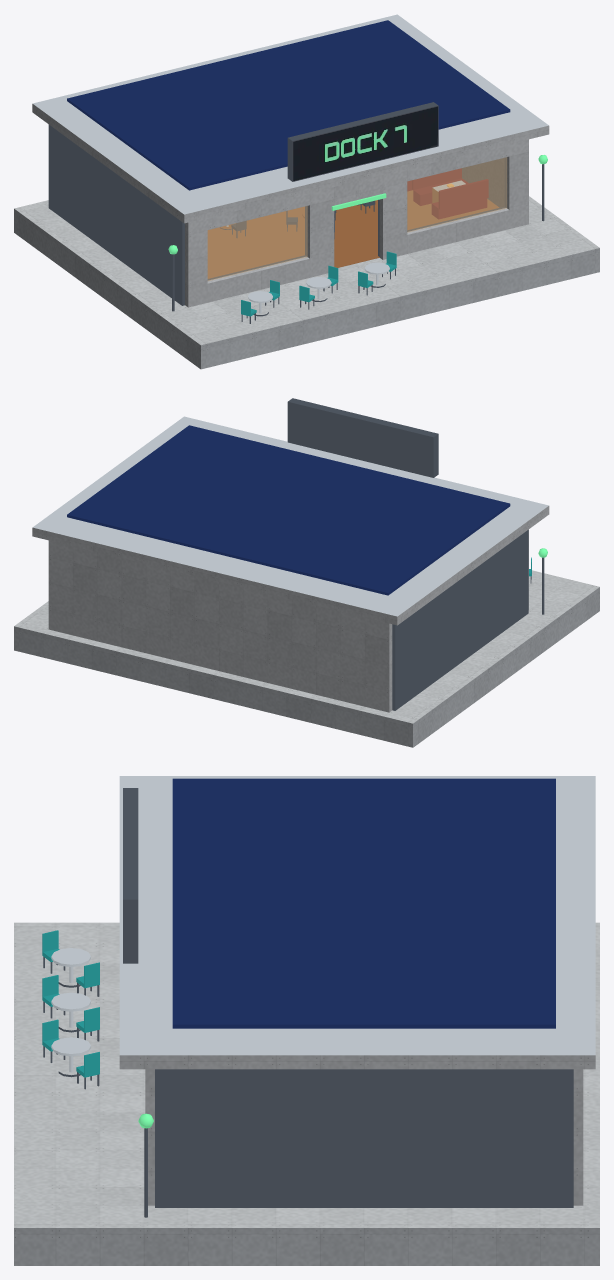
The model's file is dock_seven_tavern.glb.
3 views of the same model, one above another, from view 1: azimuth 30°, elevation 25°; view 2: azimuth 150°, elevation 25°; view 3: azimuth 270°, elevation 25° (orthographic). The views are drawn at different scales.
Visible parts, largest first — view 1: dock_seven_tavern_LOD0; view 2: dock_seven_tavern_LOD0; view 3: dock_seven_tavern_LOD0.
Part boxes in pixels (<box>): dock_seven_tavern_LOD0: <box>14,14,599,369</box>; dock_seven_tavern_LOD0: <box>14,398,599,747</box>; dock_seven_tavern_LOD0: <box>14,776,599,1265</box>.
Size of what is drawn, in the model's own units: 16.4 by 6.75 by 13.3.
Materials: 3 (2 with a texture image).
